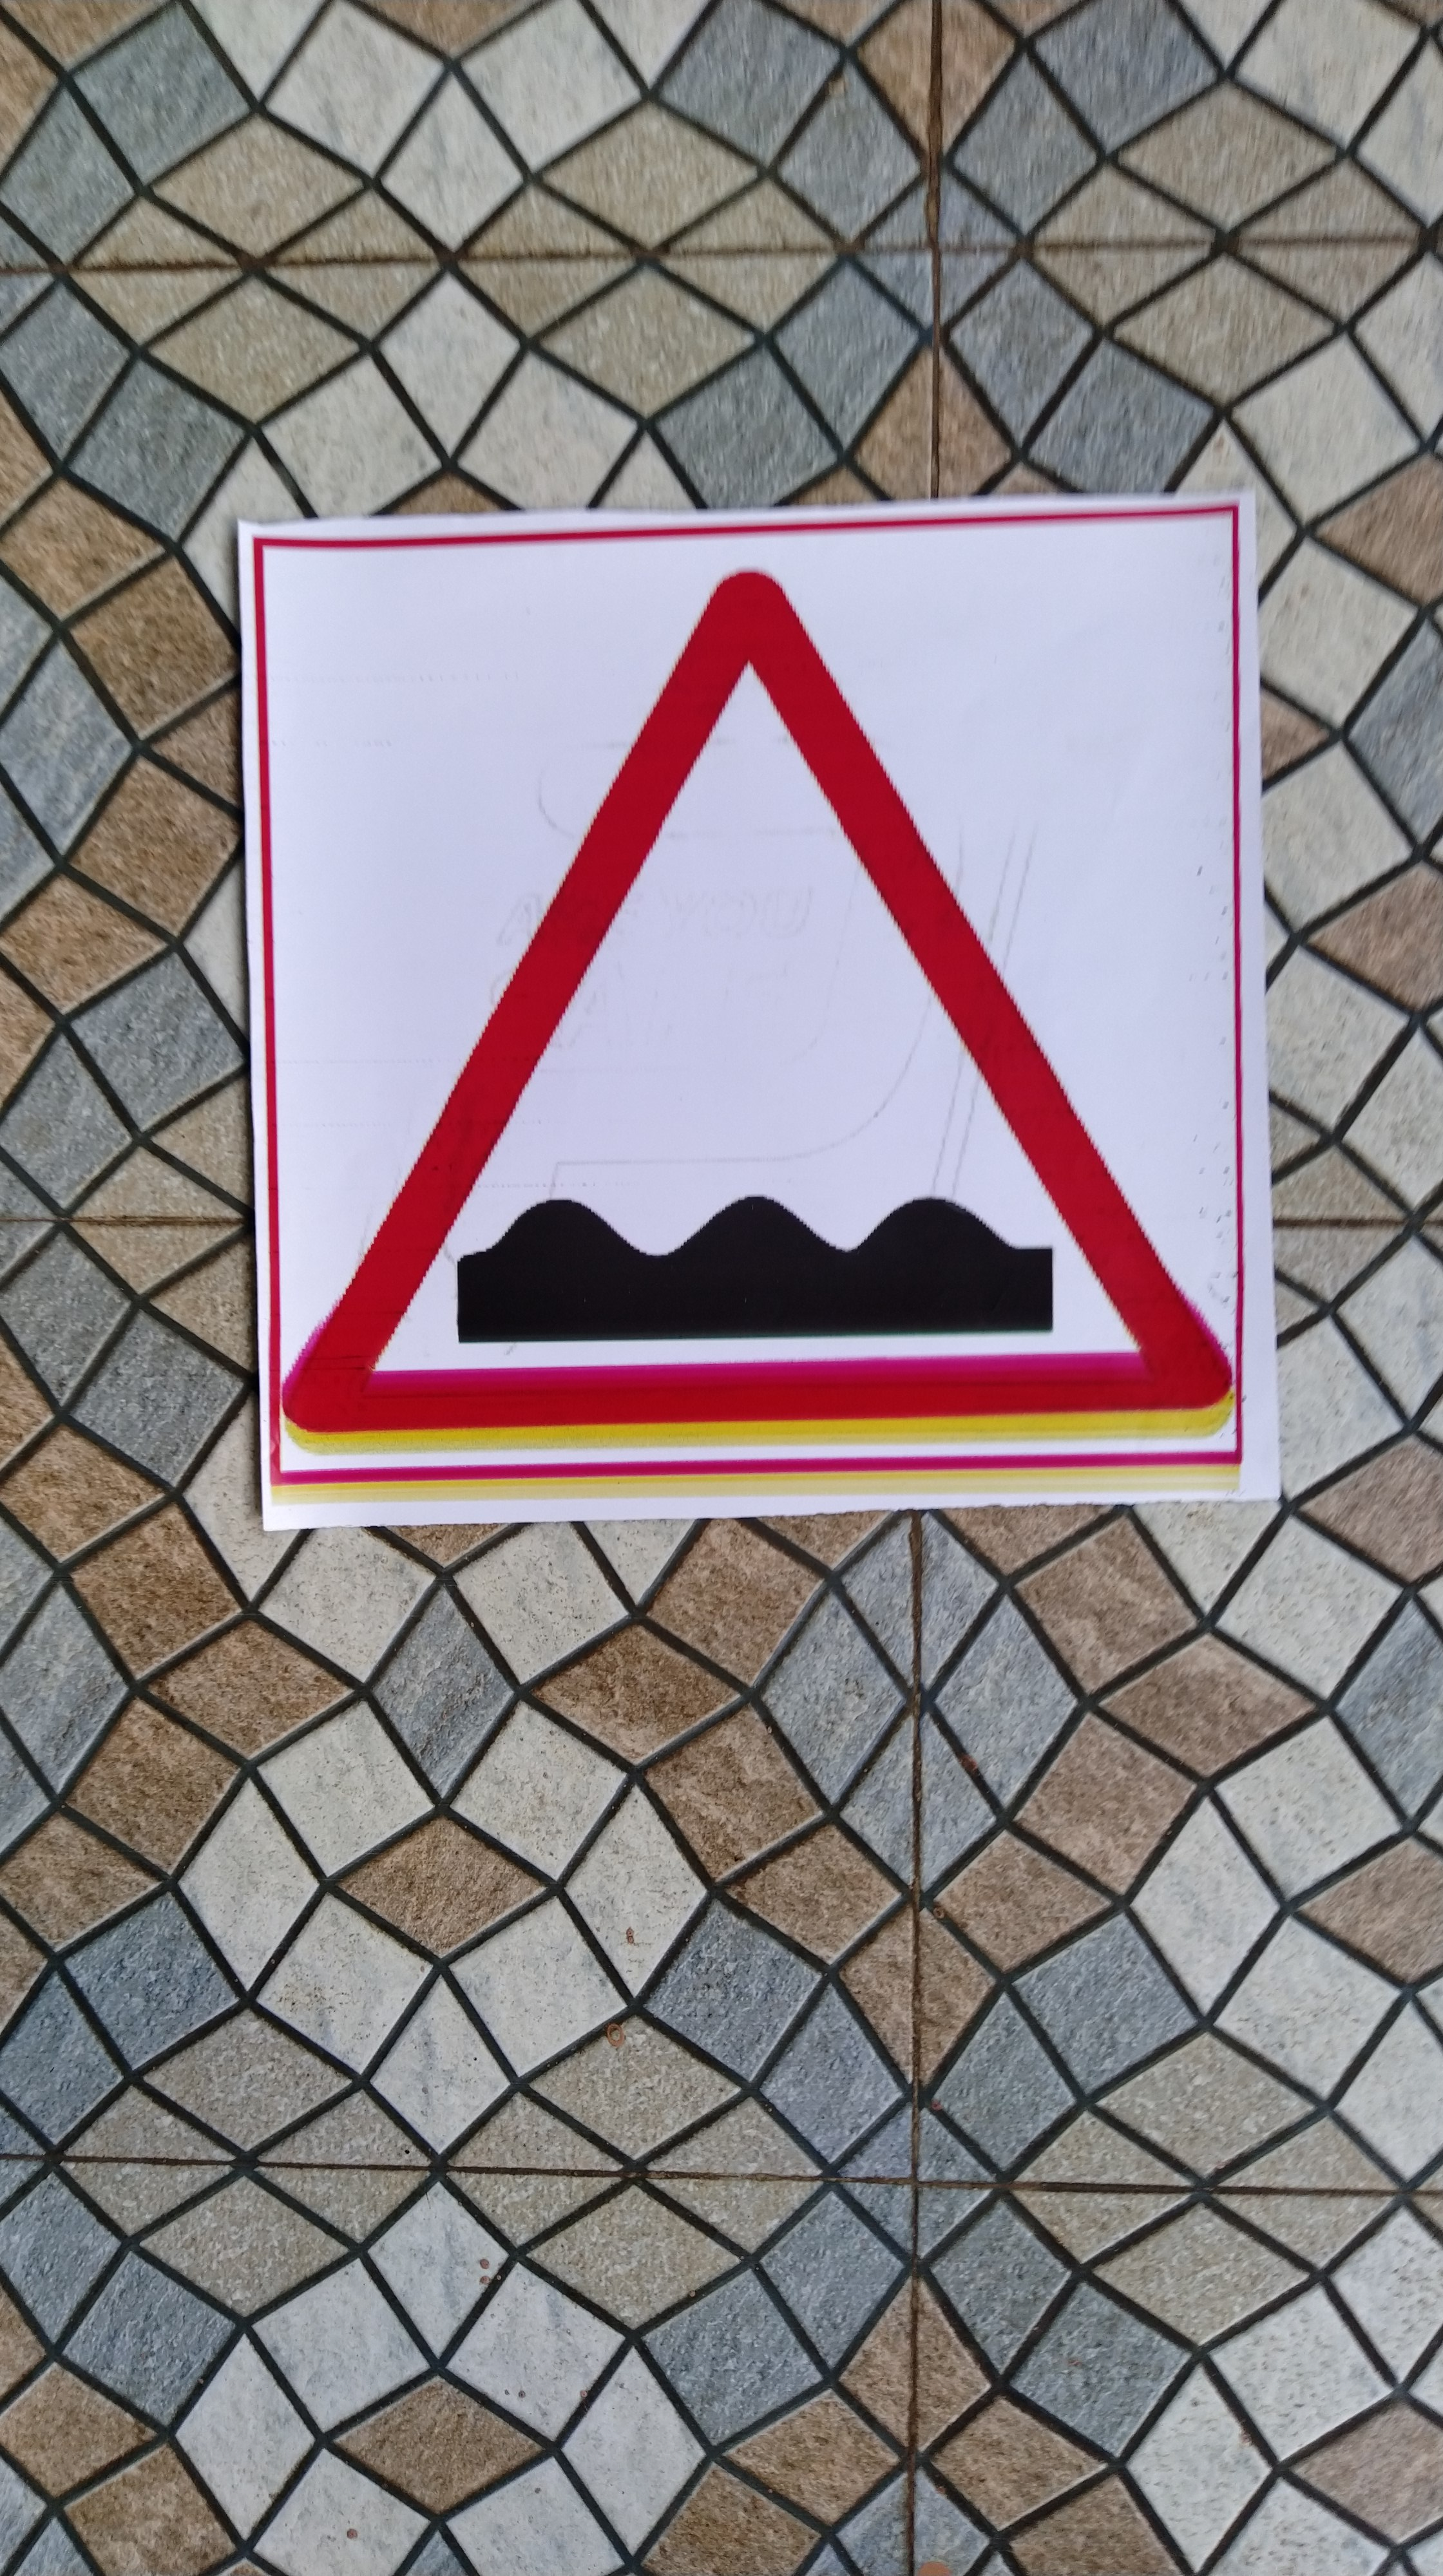speed breaker: (257, 538, 1278, 1499)
